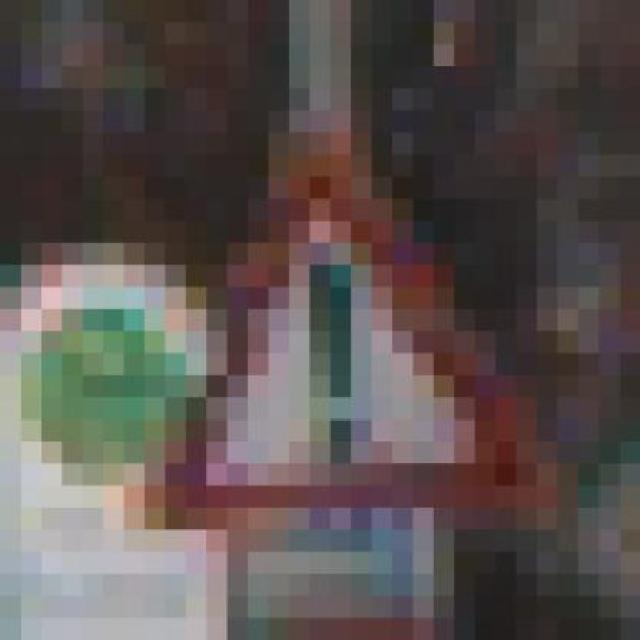Attention Please-: (82, 110, 600, 552)
